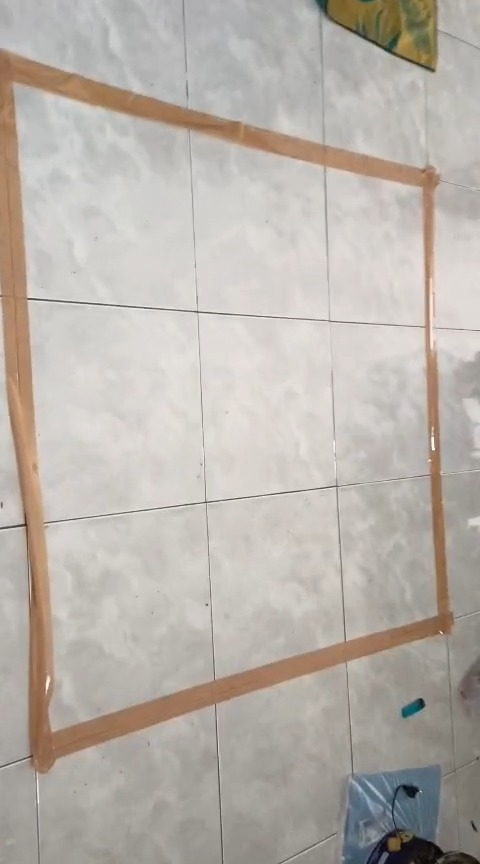floor marking: (0, 51, 450, 769)
